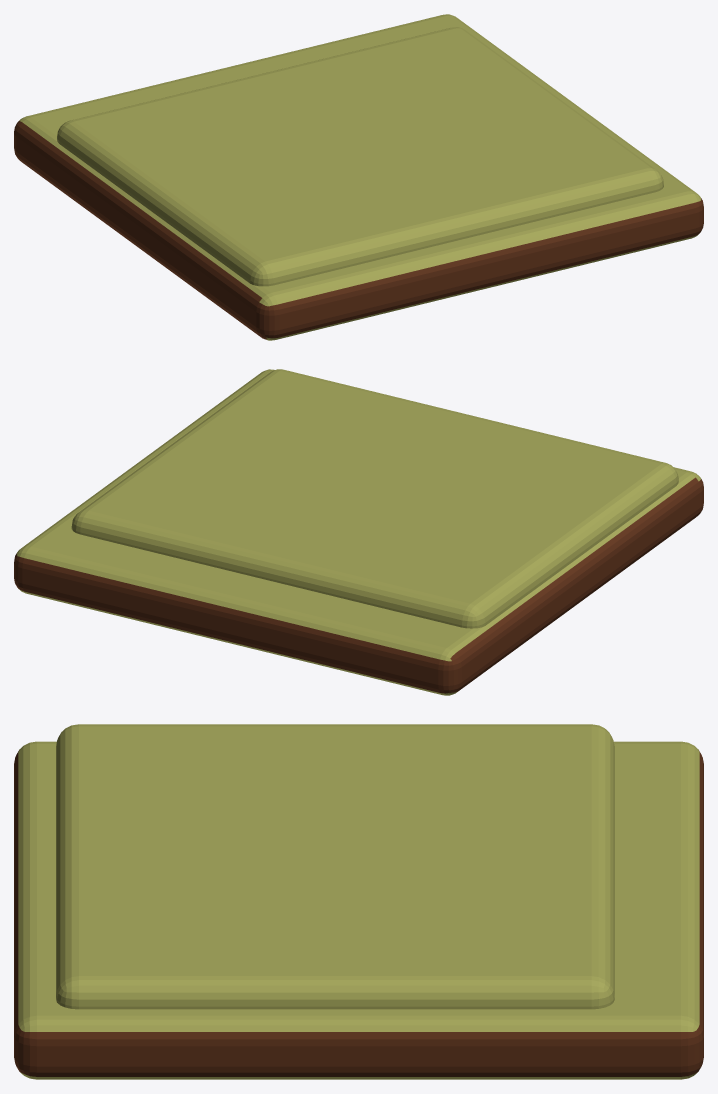
Rendered from Gundukan Spawn.fbx.
The picture shows the model from 3 angles, top to bottom: view 1: azimuth 30°, elevation 25°; view 2: azimuth 150°, elevation 25°; view 3: azimuth 270°, elevation 25°; orthographic projection. The views are drawn at different scales.
Visible parts, largest first — view 1: gundukan spawn; view 2: gundukan spawn; view 3: gundukan spawn.
Boxes of the visible parts, x1,y1,x2,y2 form: gundukan spawn: (14, 14, 703, 340); gundukan spawn: (14, 369, 703, 695); gundukan spawn: (14, 724, 703, 1079).
Size of the model in its own units: 3003 by 411 by 3003.
